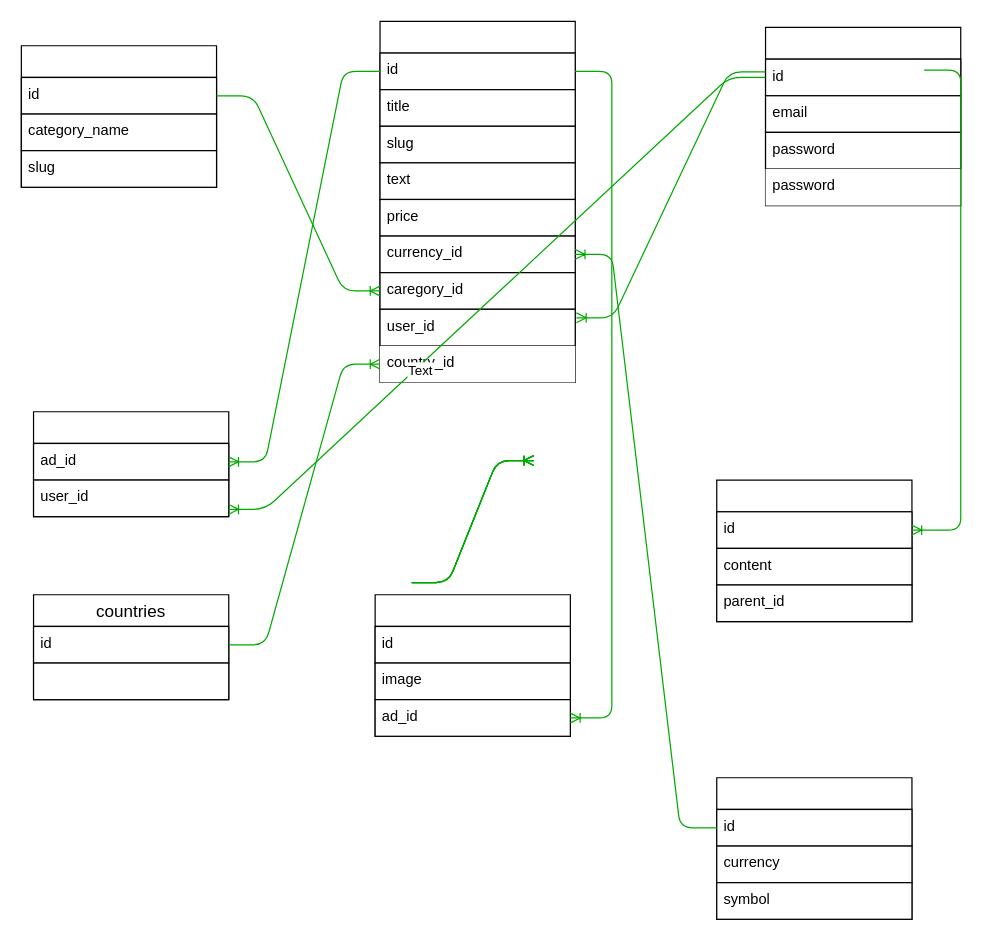
The diagram is 992 pixels wide and 944 high, and some of its shapes have lost their labels. The box of each missing label's shape, as (x1, y1, x2, y2) in pixels:
ads: (379, 20, 575, 382)
categories: (20, 45, 217, 187)
comments: (716, 479, 912, 622)
country: (32, 662, 229, 700)
currencies: (716, 777, 912, 919)
favorites: (32, 411, 229, 517)
images: (374, 594, 570, 736)
users: (764, 26, 961, 206)
